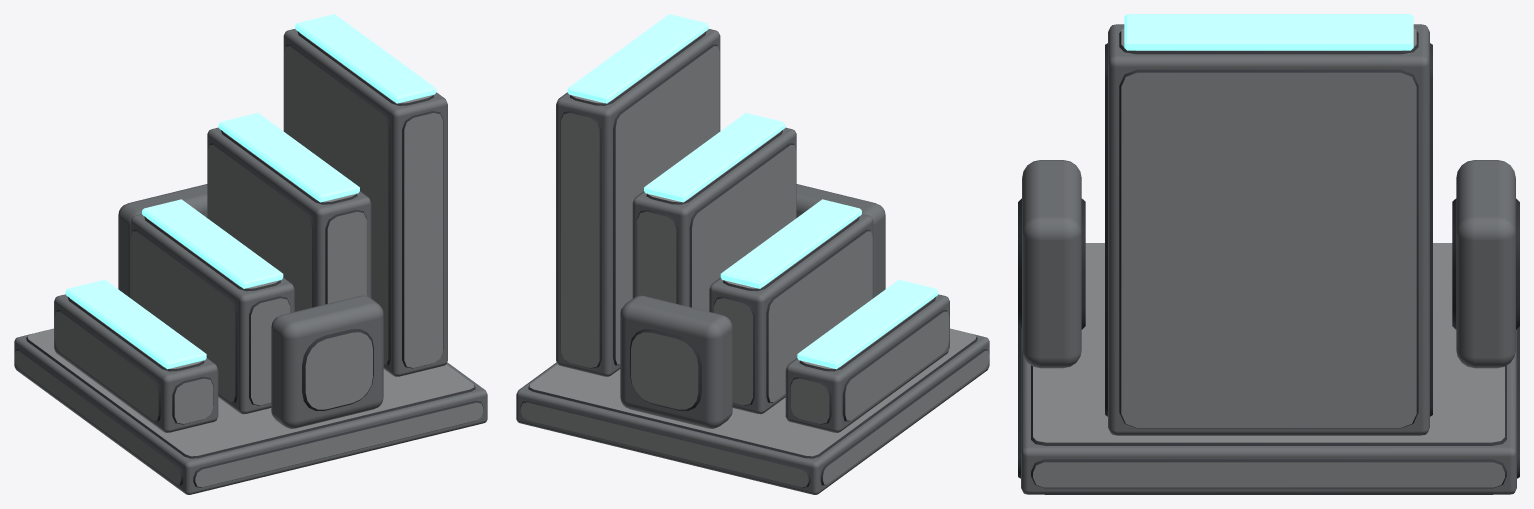
Rendered from R4X_ModuleAmplifier.glb.
3 renders of one model, left to right at view 1: azimuth 30°, elevation 25°; view 2: azimuth 150°, elevation 25°; view 3: azimuth 270°, elevation 25°, orthographic. The views are drawn at different scales.
Visible parts, largest first — view 1: R4X_ModuleAmplifier_Body; view 2: R4X_ModuleAmplifier_Body; view 3: R4X_ModuleAmplifier_Body.
Boxes of the visible parts, x1,y1,x2,y2 form: R4X_ModuleAmplifier_Body: [14, 14, 487, 494]; R4X_ModuleAmplifier_Body: [516, 14, 989, 494]; R4X_ModuleAmplifier_Body: [1018, 14, 1519, 494].
Size of the model in its own units: 0.52 by 0.512 by 0.52.
